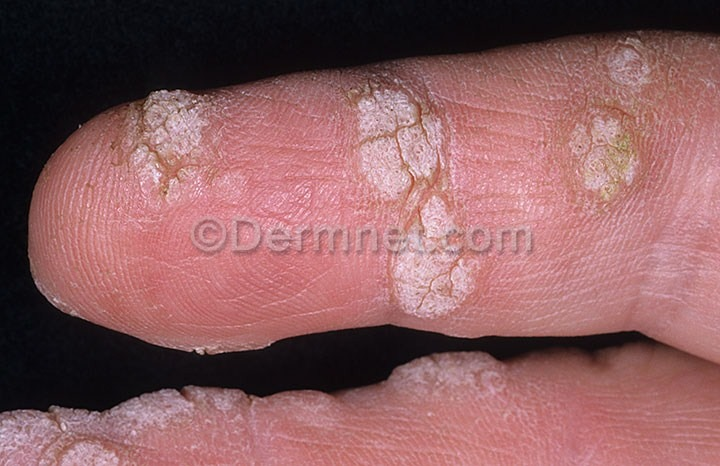Warts: (341, 69, 454, 200), (127, 81, 226, 206), (561, 105, 642, 207), (604, 29, 664, 104)
